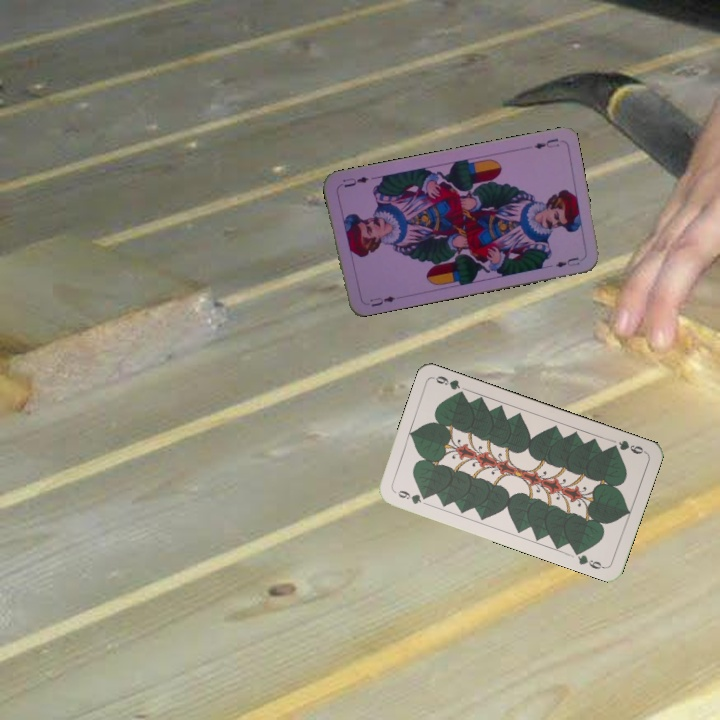EU: (366, 292, 398, 309), (530, 134, 561, 151)
G9: (606, 436, 648, 457), (391, 486, 430, 507)
